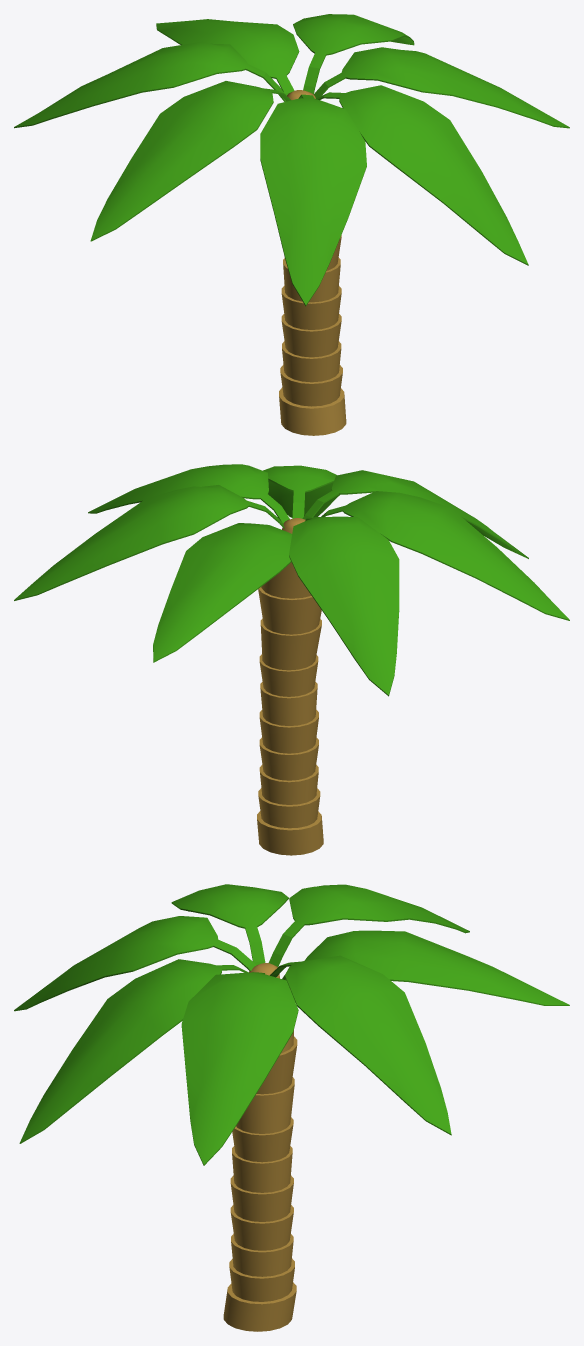
File: StraightPalmLessLeaves.fbx
The picture shows the model from 3 angles, top to bottom: view 1: azimuth 30°, elevation 25°; view 2: azimuth 150°, elevation 25°; view 3: azimuth 270°, elevation 25°; orthographic projection. The views are drawn at different scales.
Parts seen in each view (by area): view 1: PalmTreeLeaf019, PalmTreeLeaf020, PalmTreeLeaf018, PalmTree_straight, PalmTreeLeaf016, PalmTreeLeaf021, PalmTreeLeaf023, PalmTreeLeaf022; view 2: PalmTree_straight, PalmTreeLeaf016, PalmTreeLeaf023, PalmTreeLeaf018, PalmTreeLeaf022, PalmTreeLeaf021, PalmTreeLeaf019, PalmTreeLeaf020; view 3: PalmTree_straight, PalmTreeLeaf021, PalmTreeLeaf022, PalmTreeLeaf020, PalmTreeLeaf023, PalmTreeLeaf019, PalmTreeLeaf016, PalmTreeLeaf018.
Part boxes in pixels (x1,y1,x2,y2): PalmTreeLeaf019: (260,94,366,306); PalmTreeLeaf020: (315,85,528,265); PalmTreeLeaf018: (90,81,291,241); PalmTree_straight: (279,90,346,435); PalmTreeLeaf016: (14,41,286,128); PalmTreeLeaf021: (314,47,569,128); PalmTreeLeaf023: (156,19,299,95); PalmTreeLeaf022: (293,14,414,94); PalmTree_straight: (257,518,323,855); PalmTreeLeaf016: (289,516,399,696); PalmTreeLeaf023: (153,523,291,662); PalmTreeLeaf018: (321,491,569,620); PalmTreeLeaf022: (14,485,284,600); PalmTreeLeaf021: (88,464,289,523); PalmTreeLeaf019: (302,470,528,558); PalmTreeLeaf020: (263,465,339,518); PalmTree_straight: (223,963,297,1331); PalmTreeLeaf021: (181,972,298,1165); PalmTreeLeaf022: (270,955,451,1135); PalmTreeLeaf020: (19,959,249,1143); PalmTreeLeaf023: (282,930,569,1005); PalmTreeLeaf019: (14,916,256,1011); PalmTreeLeaf016: (268,884,469,966); PalmTreeLeaf018: (171,884,288,965).
Bounding box in the file's own units: 408 × 387 × 295.
